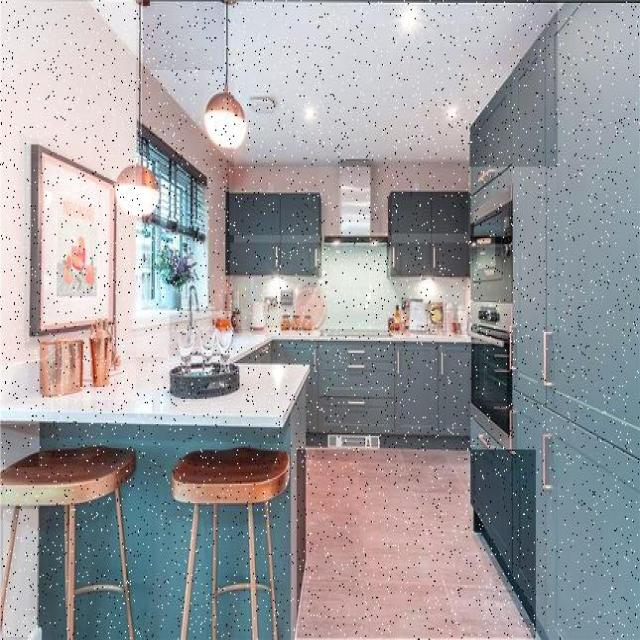Wall: (225, 2, 558, 167), (0, 2, 136, 400), (297, 451, 536, 639), (142, 71, 234, 311), (231, 243, 469, 332), (144, 0, 224, 128), (116, 210, 170, 357), (230, 167, 339, 235), (372, 165, 468, 234), (4, 510, 38, 637), (94, 1, 136, 49), (0, 424, 39, 467), (0, 510, 10, 573)
